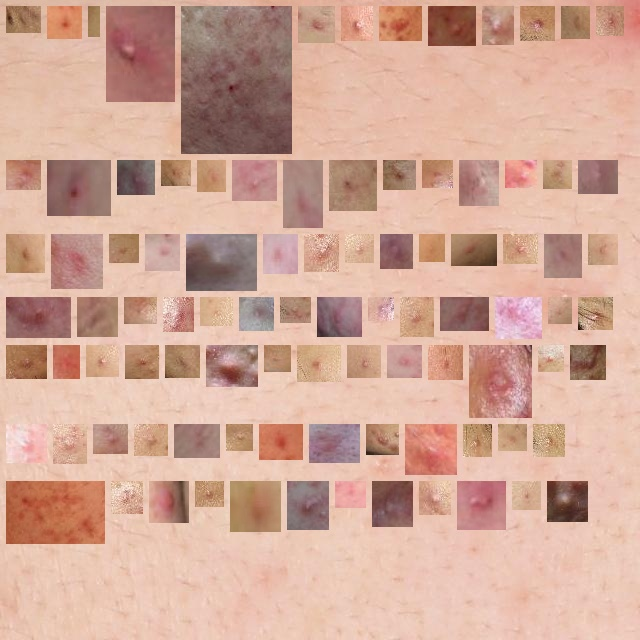papule: (189, 14, 284, 146), (114, 14, 167, 94), (14, 489, 97, 536), (477, 353, 524, 410), (194, 242, 249, 283), (55, 168, 103, 208), (59, 242, 102, 281), (413, 432, 449, 467), (291, 168, 315, 220), (14, 305, 63, 330), (238, 489, 273, 524), (337, 168, 369, 203), (465, 489, 498, 522), (214, 353, 250, 379), (295, 489, 321, 522), (503, 305, 534, 331), (317, 432, 352, 455), (436, 14, 468, 38), (380, 489, 405, 519), (240, 168, 269, 193), (467, 168, 491, 198), (325, 305, 354, 329), (555, 489, 580, 514), (157, 489, 181, 515), (552, 242, 574, 270), (85, 305, 110, 329), (448, 305, 481, 323), (305, 353, 333, 374), (14, 432, 39, 455), (267, 432, 295, 452), (182, 432, 212, 450), (14, 242, 37, 265), (387, 14, 414, 33), (459, 242, 489, 258), (271, 242, 290, 266), (14, 353, 39, 371), (306, 14, 327, 35), (586, 168, 610, 186), (408, 305, 426, 329), (61, 432, 79, 456), (125, 168, 147, 187), (312, 242, 331, 264), (153, 242, 172, 263), (578, 353, 598, 372), (490, 14, 506, 37), (528, 14, 547, 33), (436, 353, 455, 372), (247, 305, 266, 323), (133, 353, 151, 371), (55, 14, 74, 31), (388, 242, 405, 261), (586, 305, 605, 322), (173, 353, 192, 370), (395, 353, 414, 370), (355, 353, 373, 370), (349, 14, 365, 33), (142, 432, 160, 448), (427, 489, 443, 507), (171, 305, 186, 324), (94, 353, 111, 369), (541, 432, 557, 449), (119, 489, 135, 506), (14, 168, 33, 182), (511, 242, 530, 256), (101, 432, 120, 446), (374, 432, 391, 447), (391, 168, 408, 182), (569, 14, 582, 31), (208, 305, 225, 318), (471, 432, 484, 449), (596, 242, 610, 257), (14, 14, 33, 25), (205, 168, 218, 184), (61, 353, 72, 371), (513, 168, 529, 180), (132, 305, 149, 316), (117, 242, 131, 255), (430, 168, 445, 180), (551, 168, 564, 181), (353, 242, 366, 255), (520, 489, 533, 502), (604, 14, 616, 28), (343, 489, 358, 500), (288, 305, 303, 315), (506, 432, 519, 443), (169, 168, 183, 178), (203, 489, 216, 499), (272, 353, 283, 364), (234, 432, 245, 443), (427, 242, 437, 254), (546, 353, 556, 364), (556, 305, 564, 316), (376, 305, 386, 313)
